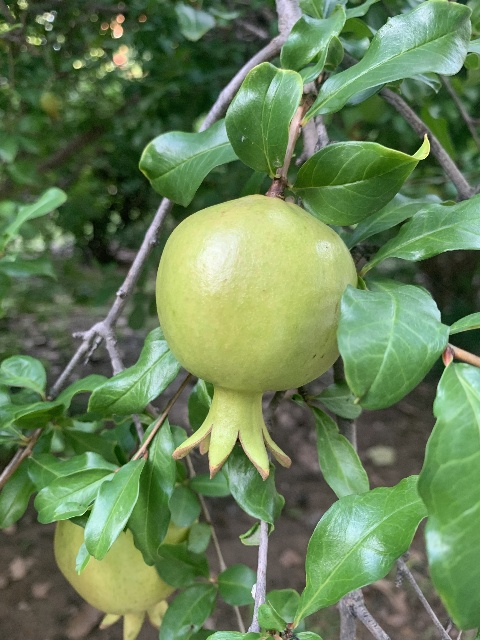mid-growth: (154, 194, 358, 480), (53, 518, 196, 640)
